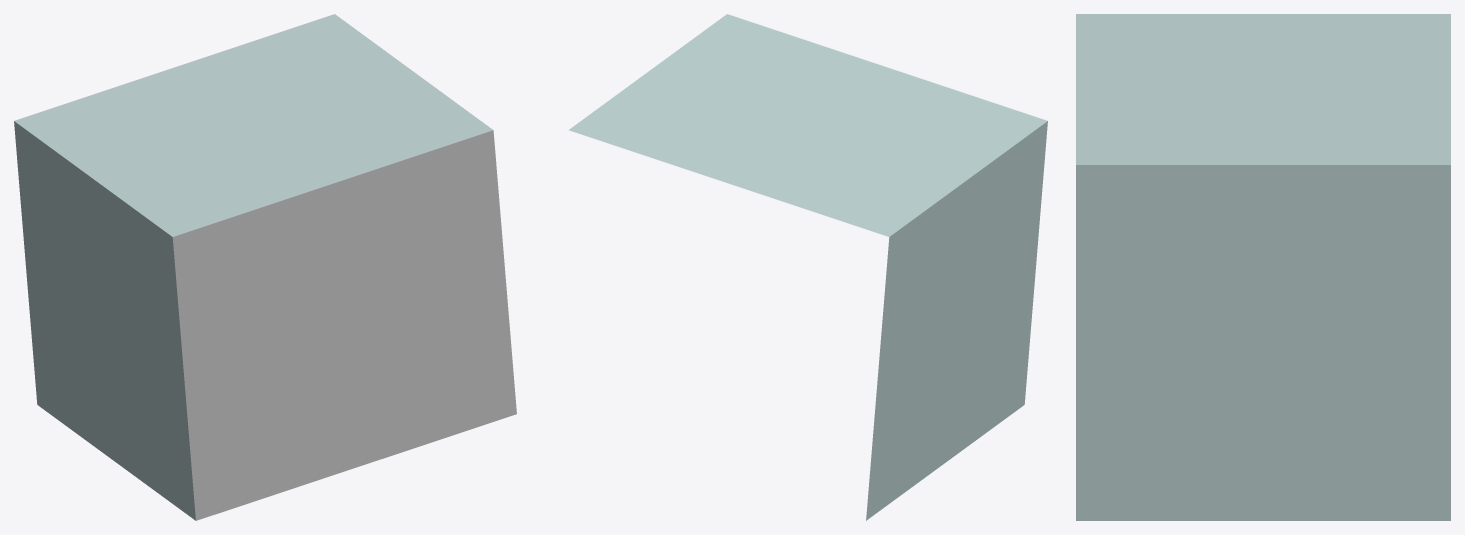
3 views of the same model, side by side, from view 1: azimuth 30°, elevation 25°; view 2: azimuth 150°, elevation 25°; view 3: azimuth 270°, elevation 25° (orthographic). The views are drawn at different scales.
Parts seen in each view (by area): view 1: 0_3_2_1_2_0_0_0_3; view 2: 0_3_2_1_2_0_0_0_3; view 3: 0_3_2_1_2_0_0_0_3.
Boxes of the visible parts, x1,y1,x2,y2 form: 0_3_2_1_2_0_0_0_3: [14, 14, 516, 520]; 0_3_2_1_2_0_0_0_3: [568, 14, 1047, 520]; 0_3_2_1_2_0_0_0_3: [1076, 14, 1450, 520].
Size of the model in its own units: 3.76 by 3.32 by 3.
